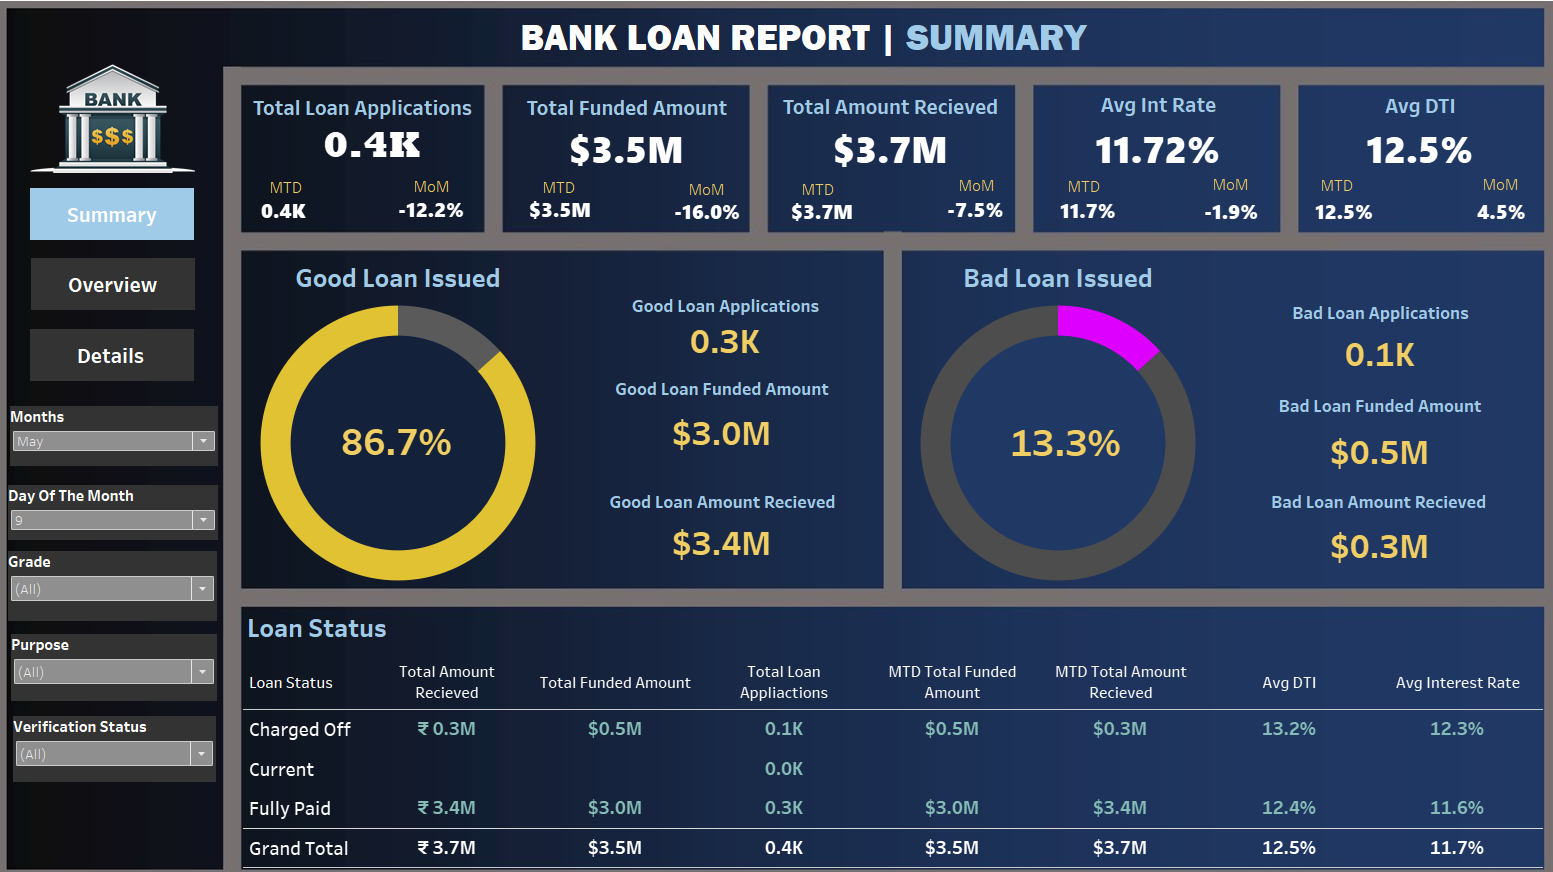

The dashboard page shown, as its layout file describes it:
{"tool":"tableau","page":{"name":"Summary","canvas":[1600,900],"ordinal":2},"visuals":[{"type":"text","box":[532,6,614,84]},{"type":"image","param":"Image/Tableau Background 1.jpg","box":[8,8,1584,884]},{"type":"image","param":"Image/R.png","box":[45,75,165,139]},{"type":"worksheet","title":"Avg Int Rate","mark":"Automatic","box":[1048,97,251,84]},{"type":"worksheet","title":"Avg DTI","mark":"Automatic","box":[1312,98,247,82]},{"type":"worksheet","title":"Total Amount Recieved","mark":"Automatic","box":[768,99,275,79]},{"type":"worksheet","title":"Total Loan Applications","mark":"Automatic","box":[264,100,247,70]},{"type":"worksheet","title":"Total Funded Amount","mark":"Automatic","box":[519,100,246,77]},{"type":"text","box":[1224,180,100,30]},{"type":"text","box":[1494,180,100,30]},{"type":"text","box":[970,181,100,30]},{"type":"text","box":[1332,181,100,30]},{"type":"text","box":[425,182,50,30]},{"type":"text","box":[1079,182,100,30]},{"type":"text","box":[554,183,100,30]},{"type":"text","box":[700,185,100,30]},{"type":"text","box":[813,185,100,30]},{"type":"text","box":[281,190,48,17]},{"type":"worksheet","title":"MTD Total Funded Amount ","mark":"Automatic","box":[531,198,90,45]},{"type":"dashboard-object","box":[45,199,164,52]},{"type":"worksheet","title":"MTD Avg DTI","mark":"Automatic","box":[1304,200,111,44]},{"type":"worksheet","title":"MTD Total Amount Recieved","mark":"Automatic","box":[764,202,147,41]},{"type":"worksheet","title":"MTD Avg int rate","mark":"Automatic","box":[1053,202,100,38]},{"type":"worksheet","title":"Mom Total Amount Recieved ","mark":"Automatic","box":[928,203,125,35]},{"type":"worksheet","title":"MoM Avg DTI ","mark":"Automatic","box":[1475,204,83,36]},{"type":"worksheet","title":"MoM Loan Applications","mark":"Automatic","box":[397,206,99,28]},{"type":"worksheet","title":"MoM Total Funded Amount","mark":"Automatic","box":[646,206,153,32]},{"type":"worksheet","title":"MoM Avg Int Rate","mark":"Automatic","box":[1196,206,101,32]},{"type":"worksheet","title":"MTD Total Loan Applications","mark":"Automatic","box":[246,213,105,17]},{"type":"worksheet","title":"Good Loan Issued","mark":"Pie","rows":["Calculation_1333065525432971293","Calculation_1333065525432971293"],"box":[263,267,300,325]},{"type":"worksheet","title":"Bad Loan Issued","mark":"Pie","rows":["Calculation_1333065525432971293","Calculation_1333065525432971293"],"box":[923,267,300,325]},{"type":"dashboard-object","box":[46,269,164,52]},{"type":"worksheet","title":"Good Loan Applications","mark":"Automatic","box":[588,297,305,71]},{"type":"worksheet","title":"Bad Loan Applications","mark":"Automatic","box":[1235,304,321,82]},{"type":"dashboard-object","box":[45,340,164,52]},{"type":"worksheet","title":"Good Loan Funded Amount","mark":"Automatic","box":[584,380,306,89]},{"type":"worksheet","title":"Bad Loan Application %","mark":"Automatic","box":[989,381,183,143]},{"type":"worksheet","title":"Bad Loan Funded Amount","mark":"Automatic","box":[1235,397,320,92]},{"type":"parameter","param":"[Parameters].[Issue Date (copy) (Months) Parameter]","box":[25,417,208,60]},{"type":"worksheet","title":"Good Loan Application %","mark":"Automatic","box":[352,427,119,48]},{"type":"worksheet","title":"Good Loan Amount Recieved","mark":"Automatic","box":[584,493,307,82]},{"type":"worksheet","title":"Bad Loan Amount Recieved ","mark":"Automatic","box":[1234,493,323,89]},{"type":"parameter","param":"[Parameters].[Date Parameter]","box":[23,496,210,55]},{"type":"filter","title":"Good Loan Issued","param":"[federated.0cqz1ge0lgt4j6104cgw00c967ol].[none:grade:nk]","box":[23,562,209,70]},{"type":"worksheet","title":"Loan Status","mark":"Automatic","rows":["loan_status"],"box":[258,617,1300,262]},{"type":"filter","title":"Good Loan Issued","param":"[federated.0cqz1ge0lgt4j6104cgw00c967ol].[none:purpose:nk]","box":[26,645,206,67]},{"type":"filter","title":"Good Loan Issued","param":"[federated.0cqz1ge0lgt4j6104cgw00c967ol].[none:verification_status:nk]","box":[28,727,203,66]}]}

Visuals, with their boxes in screenshot pixels (x1, y1, x2, y2), scaled from the page's 1600x900 canvas onto the 1553x872 screenshot:
text: locate(516, 6, 1112, 87)
image: locate(8, 8, 1545, 864)
image: locate(44, 73, 204, 207)
"Avg Int Rate" worksheet: locate(1017, 94, 1261, 175)
"Avg DTI" worksheet: locate(1273, 95, 1513, 174)
"Total Amount Recieved" worksheet: locate(745, 96, 1012, 172)
"Total Loan Applications" worksheet: locate(256, 97, 496, 165)
"Total Funded Amount" worksheet: locate(504, 97, 743, 171)
text: locate(1188, 174, 1285, 203)
text: locate(1450, 174, 1547, 203)
text: locate(942, 175, 1039, 204)
text: locate(1293, 175, 1390, 204)
text: locate(413, 176, 461, 205)
text: locate(1047, 176, 1144, 205)
text: locate(538, 177, 635, 206)
text: locate(679, 179, 776, 208)
text: locate(789, 179, 886, 208)
text: locate(273, 184, 319, 201)
"MTD Total Funded Amount " worksheet: locate(515, 192, 603, 235)
dashboard-object: locate(44, 193, 203, 243)
"MTD Avg DTI" worksheet: locate(1266, 194, 1373, 236)
"MTD Total Amount Recieved" worksheet: locate(742, 196, 884, 235)
"MTD Avg int rate" worksheet: locate(1022, 196, 1119, 233)
"Mom Total Amount Recieved " worksheet: locate(901, 197, 1022, 231)
"MoM Avg DTI " worksheet: locate(1432, 198, 1512, 233)
"MoM Loan Applications" worksheet: locate(385, 200, 481, 227)
"MoM Total Funded Amount" worksheet: locate(627, 200, 776, 231)
"MoM Avg Int Rate" worksheet: locate(1161, 200, 1259, 231)
"MTD Total Loan Applications" worksheet: locate(239, 206, 341, 223)
"Good Loan Issued" worksheet (Pie marks): locate(255, 259, 546, 574)
"Bad Loan Issued" worksheet (Pie marks): locate(896, 259, 1187, 574)
dashboard-object: locate(45, 261, 204, 311)
"Good Loan Applications" worksheet: locate(571, 288, 867, 357)
"Bad Loan Applications" worksheet: locate(1199, 295, 1510, 374)
dashboard-object: locate(44, 329, 203, 380)
"Good Loan Funded Amount" worksheet: locate(567, 368, 864, 454)
"Bad Loan Application %" worksheet: locate(960, 369, 1138, 508)
"Bad Loan Funded Amount" worksheet: locate(1199, 385, 1509, 474)
parameter: locate(24, 404, 226, 462)
"Good Loan Application %" worksheet: locate(342, 414, 457, 460)
"Good Loan Amount Recieved" worksheet: locate(567, 478, 865, 557)
"Bad Loan Amount Recieved " worksheet: locate(1198, 478, 1511, 564)
parameter: locate(22, 481, 226, 534)
"Good Loan Issued" filter: locate(22, 545, 225, 612)
"Loan Status" worksheet: locate(250, 598, 1512, 852)
"Good Loan Issued" filter: locate(25, 625, 225, 690)
"Good Loan Issued" filter: locate(27, 704, 224, 768)
